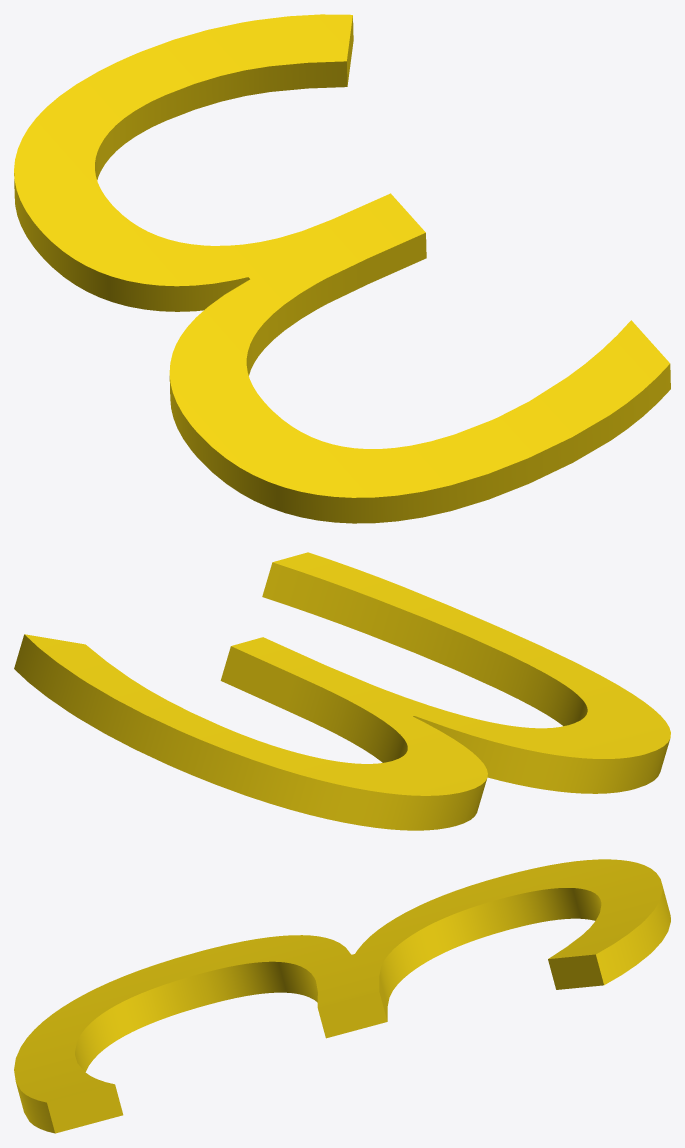
The model's file is Number_3.gltf.
3 views of the same model, one above another, from view 1: azimuth 30°, elevation 25°; view 2: azimuth 150°, elevation 25°; view 3: azimuth 270°, elevation 25° (orthographic). The views are drawn at different scales.
Visible parts, largest first — view 1: Sub_8_Cell_2_1_Number_3; view 2: Sub_8_Cell_2_1_Number_3; view 3: Sub_8_Cell_2_1_Number_3.
Part boxes in pixels (box(x1,y1,x2,y2)): Sub_8_Cell_2_1_Number_3: box(14, 14, 670, 523); Sub_8_Cell_2_1_Number_3: box(14, 552, 670, 830); Sub_8_Cell_2_1_Number_3: box(14, 859, 670, 1133).
Bounding box in the file's own units: 0.0167 × 0.00937 × 0.0253.
